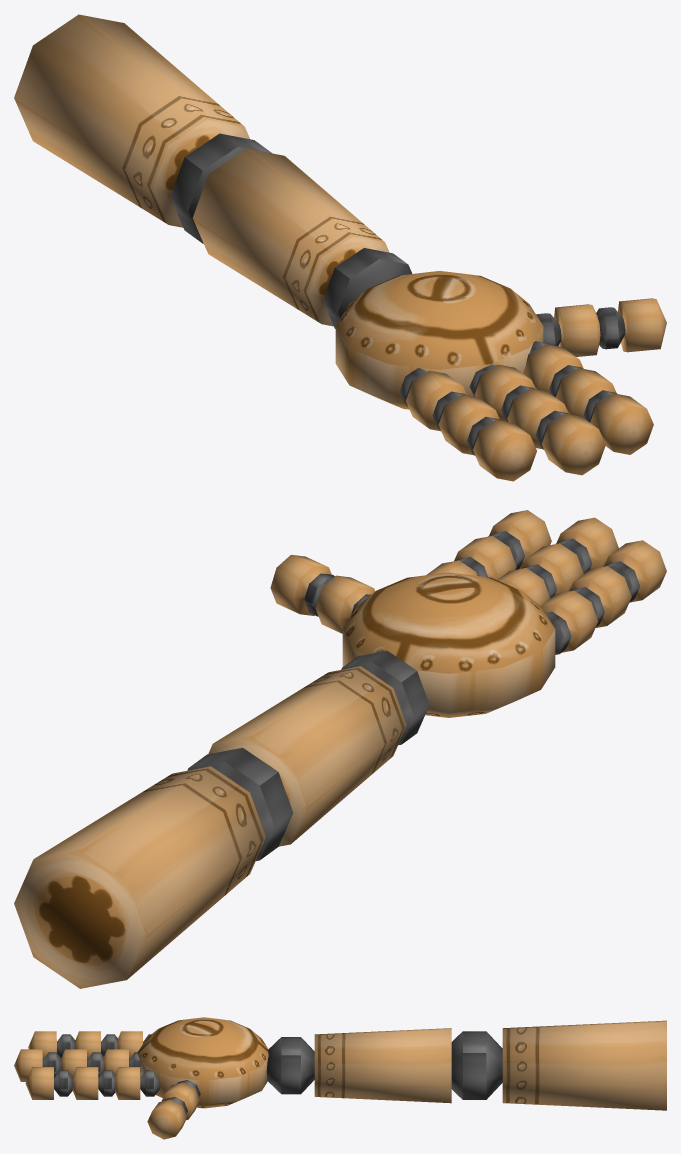
File: player-arm-right.fbx
3 renders of one model, top to bottom at view 1: azimuth 30°, elevation 25°; view 2: azimuth 150°, elevation 25°; view 3: azimuth 270°, elevation 25°, orthographic. The views are drawn at different scales.
Visible parts, largest first — view 1: bicep-mesh, forearm-mesh, hand-mesh, middle-3-mesh, ring-3-mesh, thumb-2-mesh, index-3-mesh, thumb-1-mesh, ring-2-mesh, ring-1-mesh, middle-2-mesh, index-2-mesh (+2 smaller); view 2: bicep-mesh, hand-mesh, forearm-mesh, thumb-2-mesh, ring-1-mesh, ring-3-mesh, ring-2-mesh, middle-3-mesh, index-3-mesh, thumb-1-mesh, middle-2-mesh, index-2-mesh (+1 smaller); view 3: bicep-mesh, forearm-mesh, hand-mesh, index-3-mesh, index-1-mesh, thumb-2-mesh, index-2-mesh, middle-3-mesh, ring-3-mesh, ring-2-mesh, middle-2-mesh, thumb-1-mesh (+2 smaller).
Part boxes in pixels (x1,y1,x2,y2): bicep-mesh: (14,14,271,243); forearm-mesh: (192,148,412,328); hand-mesh: (335,271,543,409); middle-3-mesh: (535,410,605,475); ring-3-mesh: (467,416,536,481); thumb-2-mesh: (596,298,666,352); index-3-mesh: (583,390,653,454); thumb-1-mesh: (536,304,600,356); ring-2-mesh: (432,391,499,455); ring-1-mesh: (400,368,466,431); middle-2-mesh: (501,385,568,449); index-2-mesh: (549,365,616,418); bicep-mesh: (14,747,293,988); hand-mesh: (342,572,555,717); forearm-mesh: (208,650,429,846); thumb-2-mesh: (270,554,335,616); ring-1-mesh: (541,590,598,654); ring-3-mesh: (603,540,666,602); ring-2-mesh: (569,566,631,627); middle-3-mesh: (556,517,618,573); index-3-mesh: (488,510,551,569); thumb-1-mesh: (315,575,375,633); middle-2-mesh: (521,543,583,598); index-2-mesh: (454,536,516,579); bicep-mesh: (451,1020,666,1110); forearm-mesh: (266,1028,451,1103); hand-mesh: (137,1017,268,1108); index-3-mesh: (25,1067,72,1099); index-1-mesh: (115,1067,159,1099); thumb-2-mesh: (147,1096,187,1139); index-2-mesh: (72,1067,115,1099); middle-3-mesh: (14,1049,61,1081); ring-3-mesh: (28,1031,75,1059); ring-2-mesh: (75,1031,117,1059); middle-2-mesh: (61,1049,103,1077); thumb-1-mesh: (162,1080,200,1120).
Size of the model in its own units: 0.3028 by 0.1377 by 0.9378.
1 material, 1 textured.
